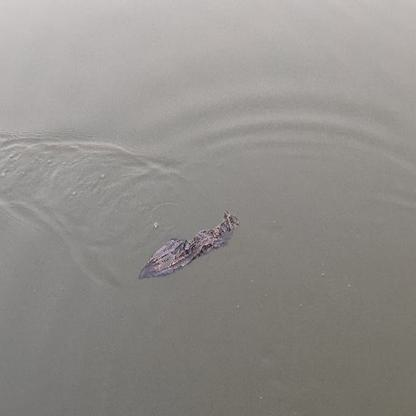plastic bag: (136, 209, 240, 280)
